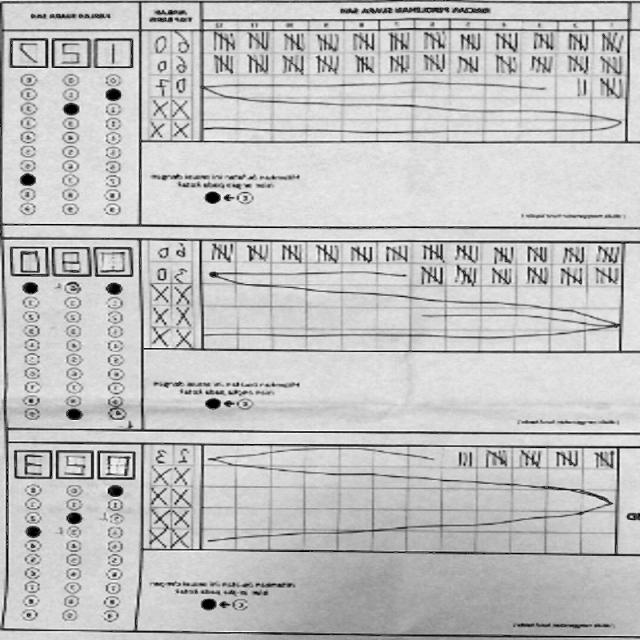Suara: (6, 241, 140, 280), (8, 443, 142, 482), (5, 32, 138, 71)
